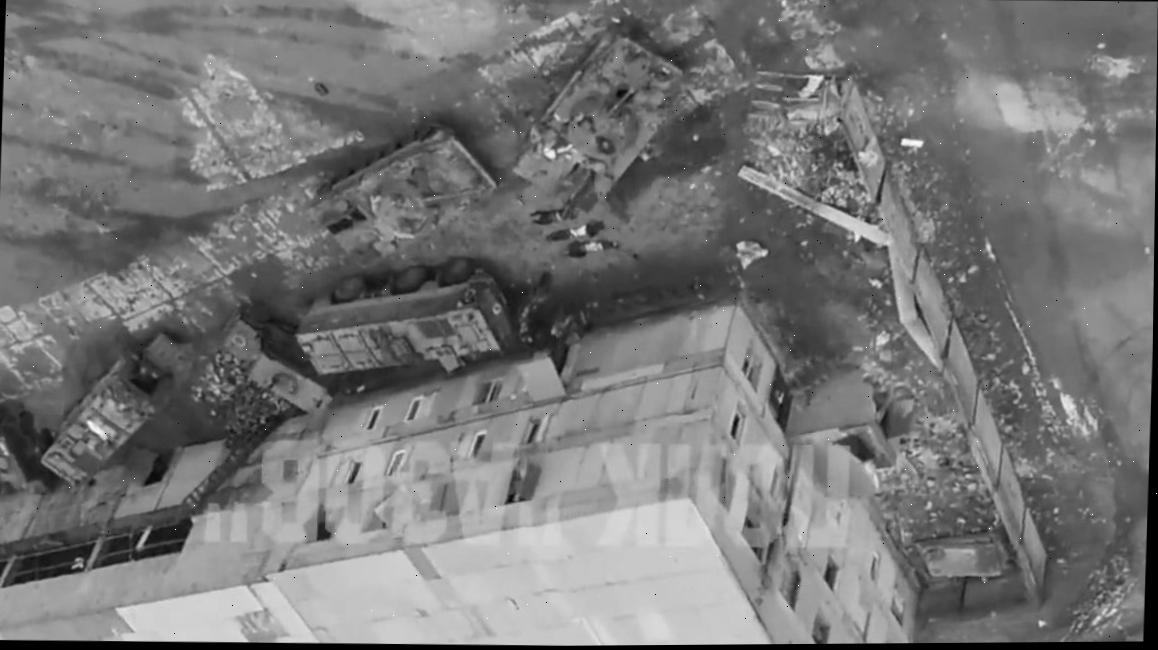armored_car: (217, 299, 342, 415), (0, 408, 58, 498)
person: (542, 220, 602, 248), (557, 237, 619, 263), (522, 204, 576, 229), (514, 283, 539, 328), (529, 270, 553, 316), (516, 317, 541, 350)
tank: (511, 22, 685, 215), (305, 124, 500, 271)
truck: (295, 254, 516, 380), (37, 329, 192, 492)
